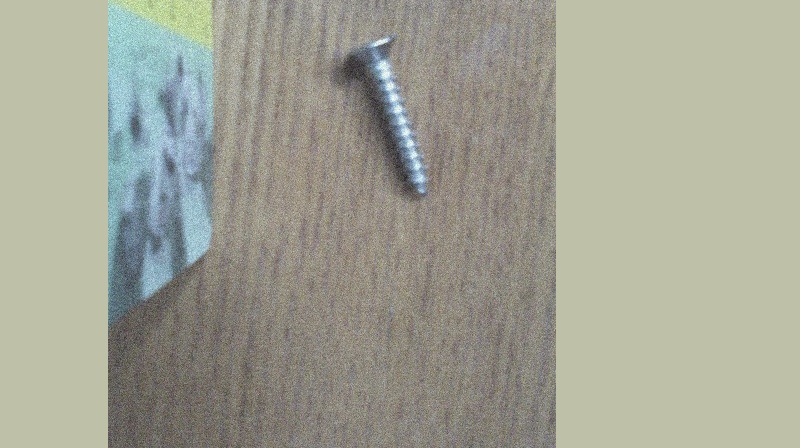S001: (342, 33, 431, 200)
